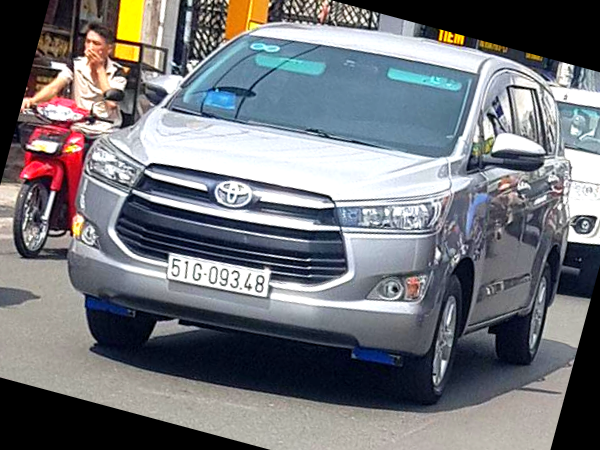lisence: (168, 253, 270, 299)
